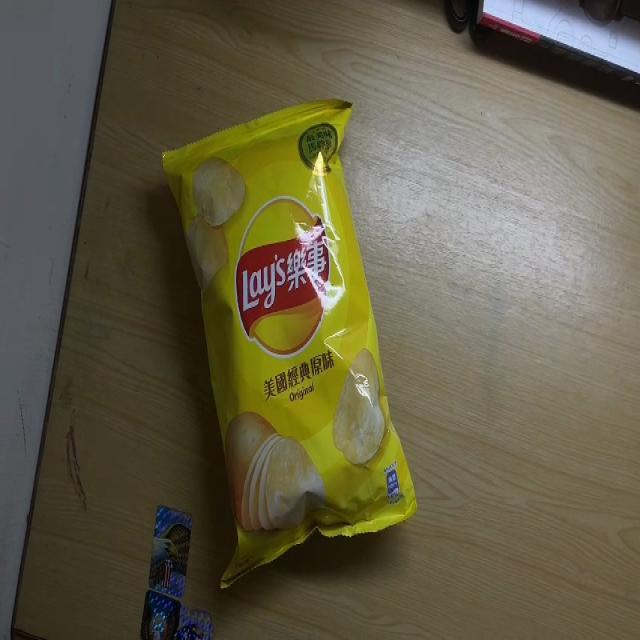Lay-s-original: (162, 95, 419, 592)
